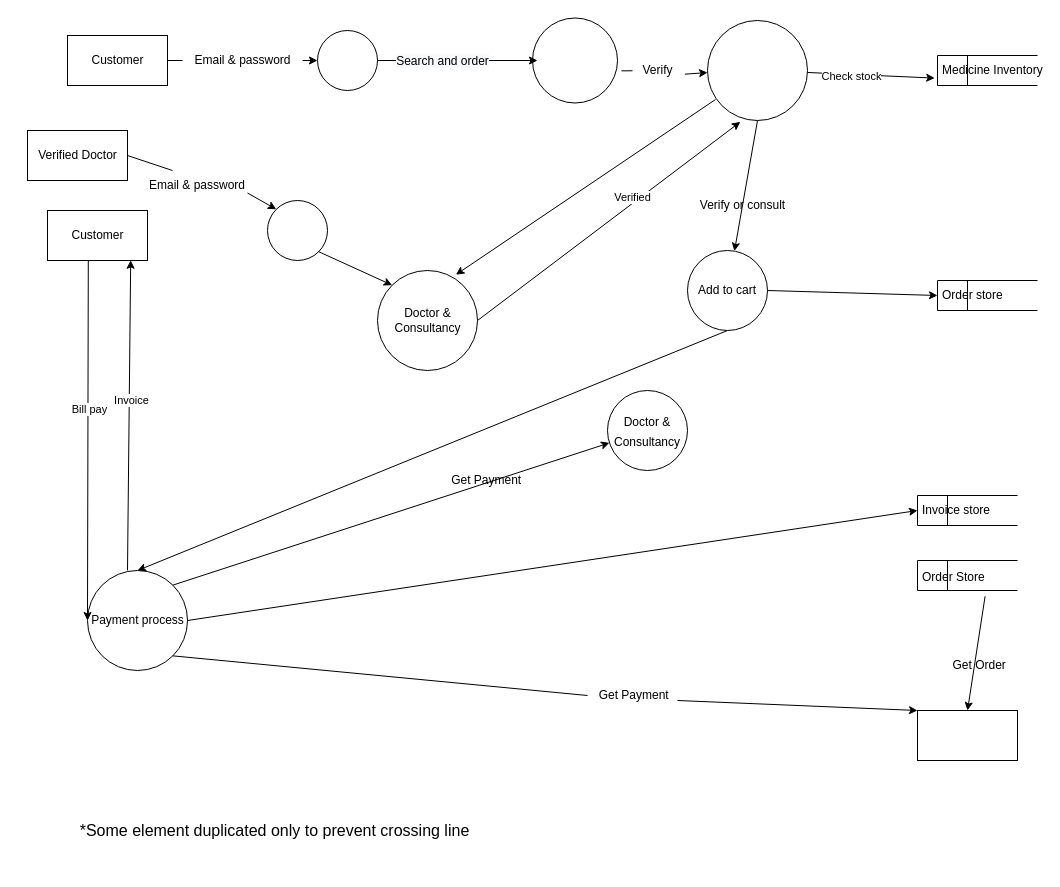
Image size: 1060x887. Some labels were removed from this diagram. The centre of each missing label's shape, as x and y in pixels:
"Log in" belongs at point (297, 230).
"Login" belongs at point (347, 60).
"Order Medicine" belongs at point (575, 60).
"prescription verification" belongs at point (757, 70).
"Retailer" belongs at point (967, 735).
